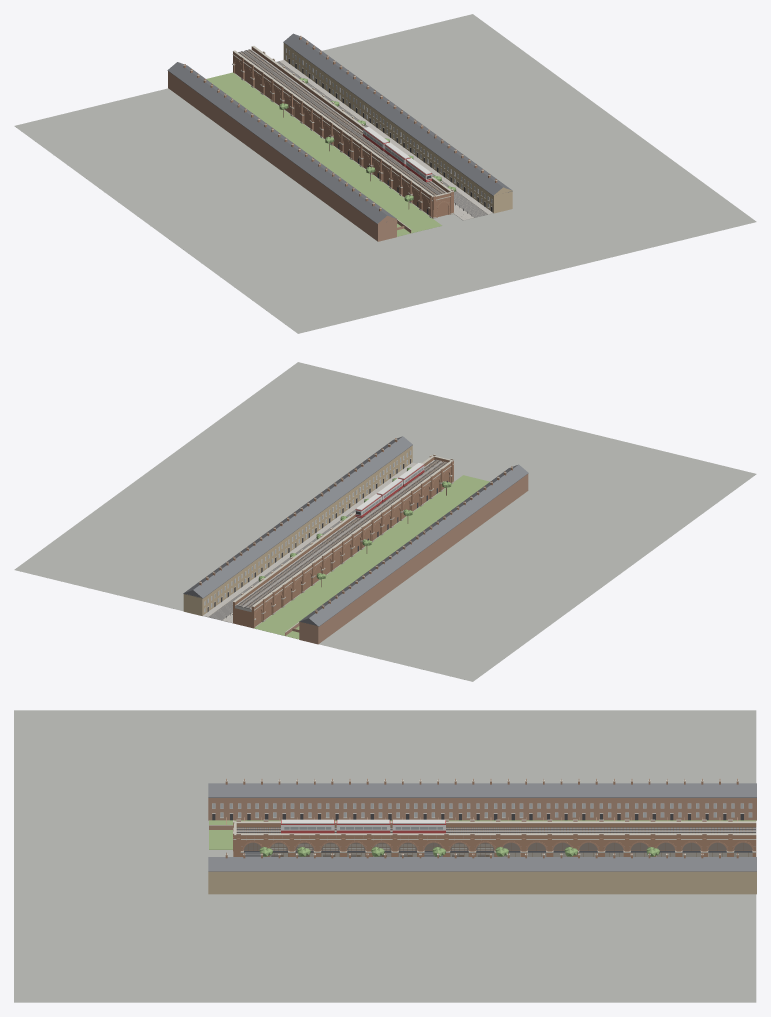
Rendered from clay-brick-arch-viaduct-clay-v002.glb.
3 views of the same model, one above another, from view 1: azimuth 30°, elevation 25°; view 2: azimuth 150°, elevation 25°; view 3: azimuth 270°, elevation 25° (orthographic). The views are drawn at different scales.
Visible parts, largest first — view 1: CLAY_GROUND, CLAY_ROOF, CLAY_GRASS, CLAY_WALL, CLAY_TERRACE2, CLAY_TERRACE, CLAY_STONE, CLAY_BALLAST, CLAY_TIMBER, CLAY_PAVING, CLAY_WHITE, CLAY_HARDWARE (+1 smaller); view 2: CLAY_GROUND, CLAY_ROOF, CLAY_GRASS, CLAY_WALL, CLAY_TERRACE2, CLAY_TERRACE, CLAY_STONE, CLAY_BALLAST, CLAY_TIMBER, CLAY_WHITE, CLAY_PAVING, CLAY_HARDWARE (+1 smaller); view 3: CLAY_GROUND, CLAY_ROOF, CLAY_TERRACE, CLAY_TERRACE2, CLAY_WALL, CLAY_GLASS, CLAY_STONE, CLAY_WHITE, CLAY_BALLAST, CLAY_ARCH, CLAY_GRASS, CLAY_FLOOR (+10 smaller).
Part boxes in pixels (x1,y1,x2,y2): CLAY_GROUND: (14, 14, 756, 333); CLAY_ROOF: (167, 33, 512, 224); CLAY_GRASS: (206, 72, 441, 236); CLAY_WALL: (233, 47, 453, 218); CLAY_TERRACE2: (168, 71, 411, 241); CLAY_TERRACE: (283, 43, 512, 213); CLAY_STONE: (183, 37, 497, 229); CLAY_BALLAST: (238, 49, 445, 195); CLAY_TIMBER: (240, 50, 445, 209); CLAY_PAVING: (280, 60, 493, 220); CLAY_WHITE: (285, 48, 492, 207); CLAY_HARDWARE: (238, 49, 471, 216); CLAY_GROUND: (14, 362, 756, 681); CLAY_ROOF: (183, 436, 528, 626); CLAY_GRASS: (254, 475, 489, 639); CLAY_WALL: (233, 455, 453, 628); CLAY_TERRACE2: (285, 474, 528, 644); CLAY_TERRACE: (183, 445, 412, 616); CLAY_STONE: (199, 439, 512, 632); CLAY_BALLAST: (236, 459, 446, 609); CLAY_TIMBER: (239, 460, 446, 607); CLAY_WHITE: (204, 450, 424, 612); CLAY_PAVING: (203, 462, 416, 623); CLAY_HARDWARE: (226, 459, 447, 617); CLAY_GROUND: (14, 710, 756, 1002); CLAY_ROOF: (208, 783, 756, 871); CLAY_TERRACE: (208, 871, 756, 894); CLAY_TERRACE2: (208, 798, 756, 829); CLAY_WALL: (233, 820, 756, 856); CLAY_GLASS: (212, 804, 752, 856); CLAY_STONE: (209, 780, 756, 855); CLAY_WHITE: (212, 803, 752, 830); CLAY_BALLAST: (236, 827, 756, 833); CLAY_ARCH: (242, 841, 754, 851); CLAY_GRASS: (209, 820, 756, 849); CLAY_FLOOR: (269, 852, 752, 856).
Bounding box in the file's own units: 220 × 13.16 × 236.
